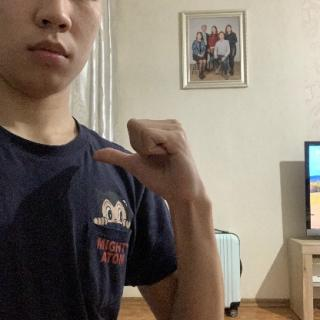WAW: (81, 113, 214, 220)
